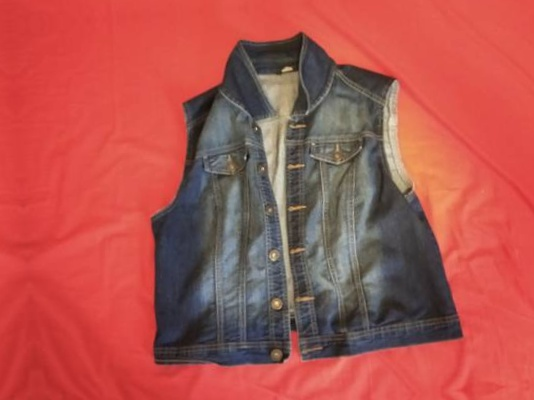Blazer: (112, 38, 471, 378)
